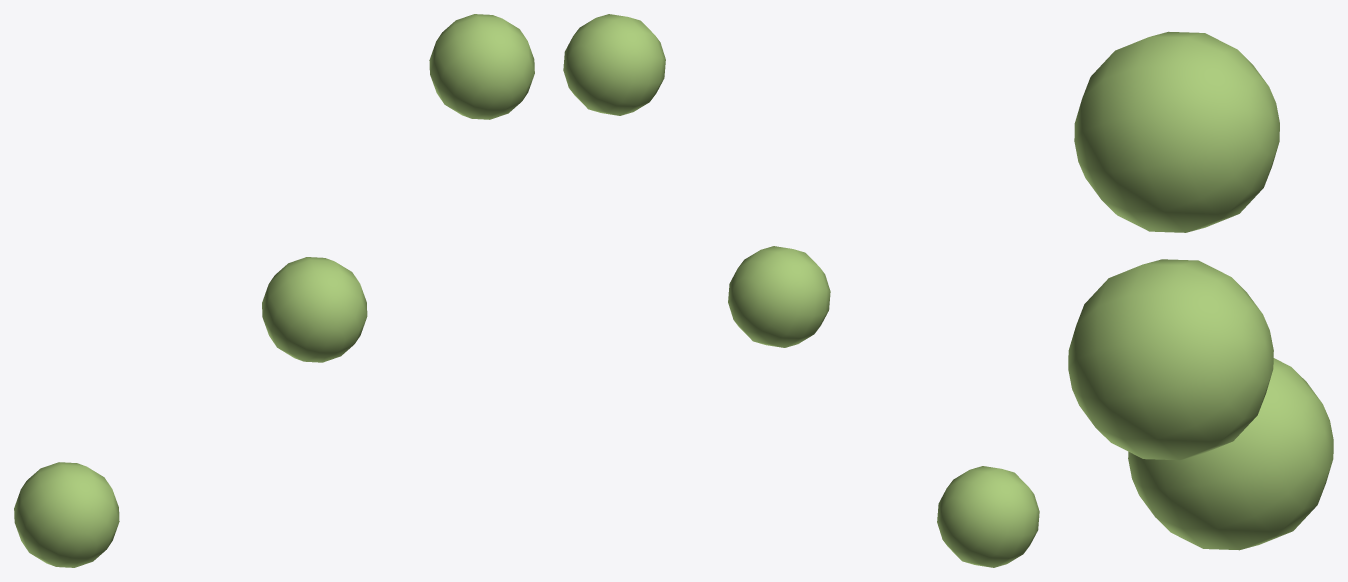
The model's file is superolateral-superficial-inguinal-nodes-l.glb.
3 views of the same model, side by side, from view 1: azimuth 30°, elevation 25°; view 2: azimuth 150°, elevation 25°; view 3: azimuth 270°, elevation 25° (orthographic). The views are drawn at different scales.
Parts seen in each view (by area): view 1: Superolateral superficial inguinal nodes.l; view 2: Superolateral superficial inguinal nodes.l; view 3: Superolateral superficial inguinal nodes.l.
Part boxes in pixels (<box>): Superolateral superficial inguinal nodes.l: <box>14,14,534,567</box>; Superolateral superficial inguinal nodes.l: <box>563,14,1039,567</box>; Superolateral superficial inguinal nodes.l: <box>1068,31,1333,550</box>.
Bounding box in the file's own units: 0.0138 × 0.0122 × 0.00334.
